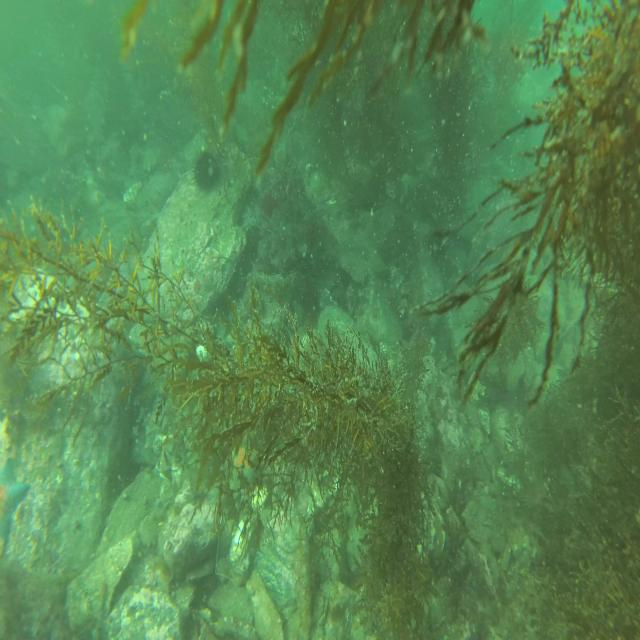echinus: (190, 142, 220, 190)
starfish: (0, 457, 31, 544), (230, 435, 260, 490)
